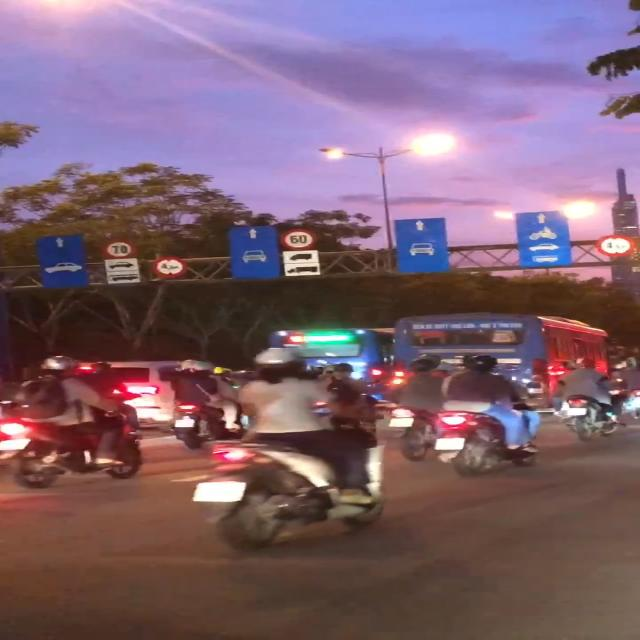Bien bao han che chieu cao: (154, 257, 188, 278)
